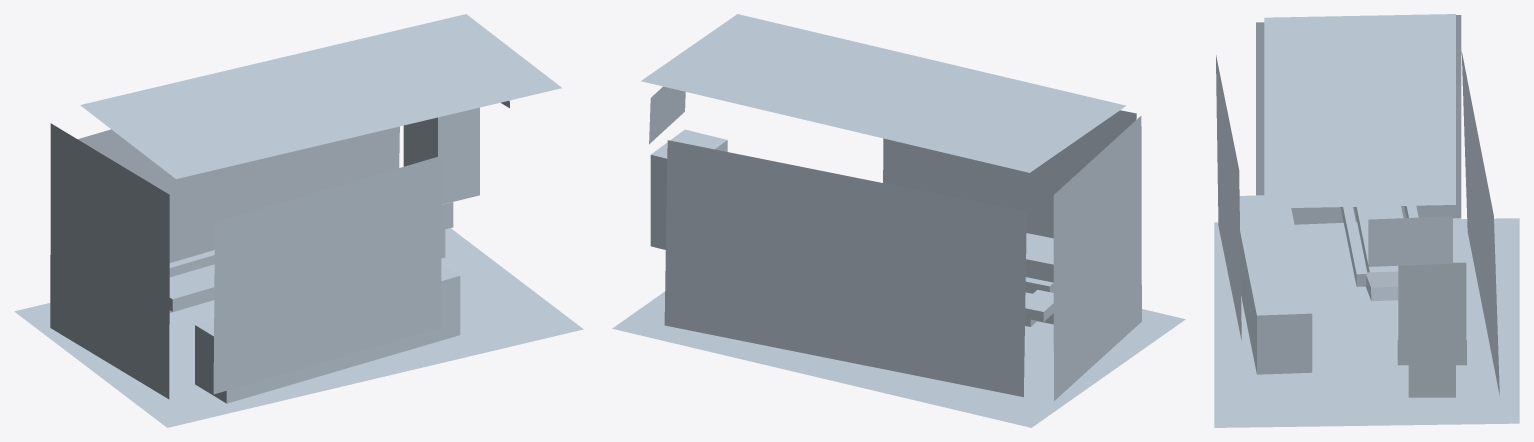
The picture shows the model from 3 angles, left to right: view 1: azimuth 30°, elevation 25°; view 2: azimuth 150°, elevation 25°; view 3: azimuth 270°, elevation 25°; orthographic projection.
Parts seen in each view (by area): view 1: Ambulance measured contact surfaces; view 2: Ambulance measured contact surfaces; view 3: Ambulance measured contact surfaces.
Boxes of the visible parts, box(x1,y1,x2,y2) form: Ambulance measured contact surfaces: box(14, 14, 583, 427); Ambulance measured contact surfaces: box(612, 14, 1185, 427); Ambulance measured contact surfaces: box(1214, 14, 1519, 427).
Bounding box in the file's own units: 3.48 × 1.81 × 2.2.
